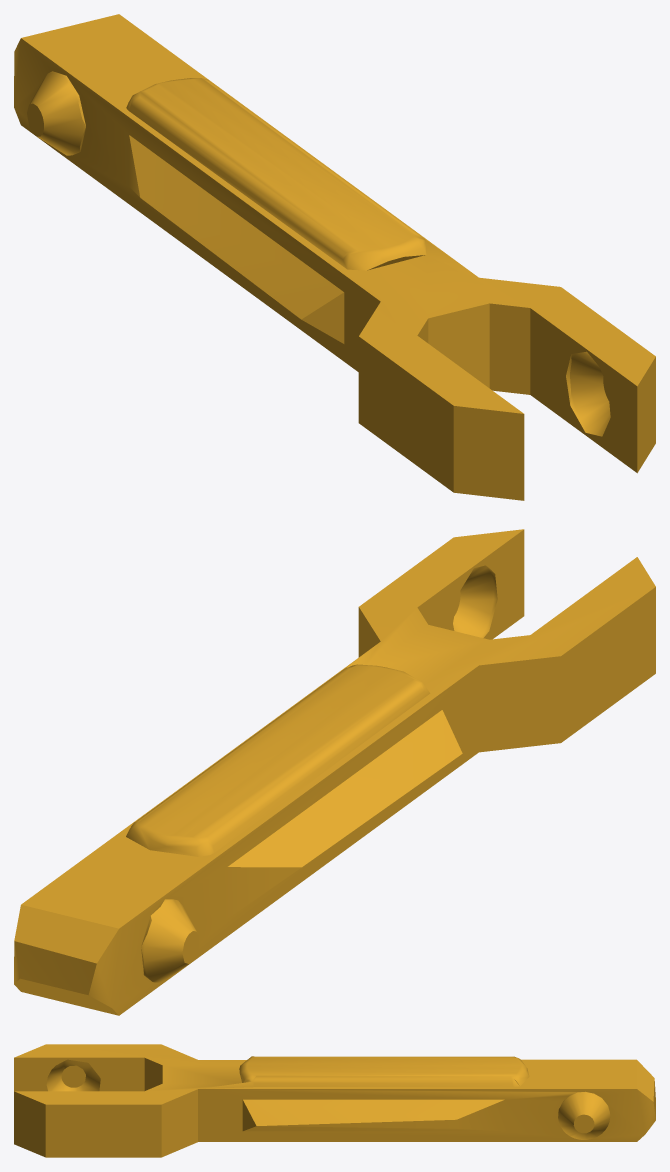
Rendered from inserter-arm-stack-upper.glb.
3 views of the same model, one above another, from view 1: azimuth 30°, elevation 25°; view 2: azimuth 150°, elevation 25°; view 3: azimuth 270°, elevation 25° (orthographic). The views are drawn at different scales.
Visible parts, largest first — view 1: body; view 2: body; view 3: body.
Boxes of the visible parts, bbox=[...] form: body: bbox=[14, 14, 655, 500]; body: bbox=[14, 529, 655, 1015]; body: bbox=[14, 1044, 655, 1157].
Size of the model in its own units: 0.2197 by 0.1042 by 0.9905.
